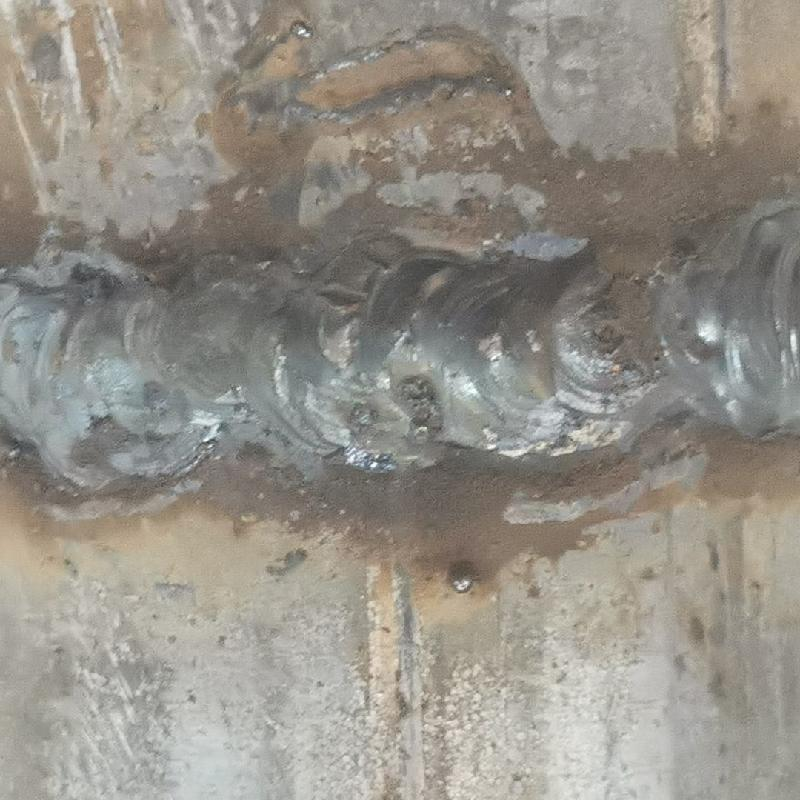good: (2, 233, 799, 488)
